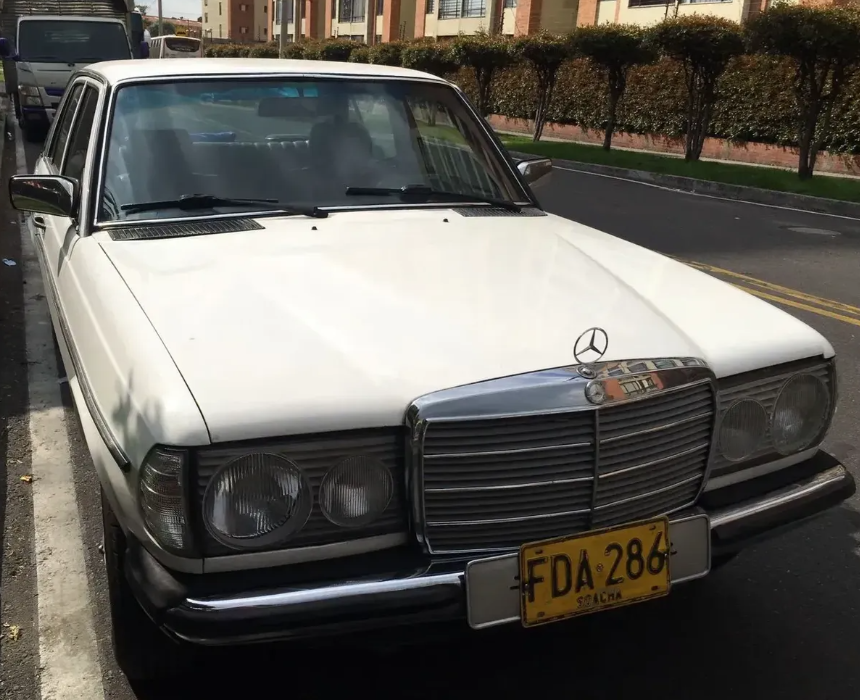placa: (522, 515, 668, 634)
